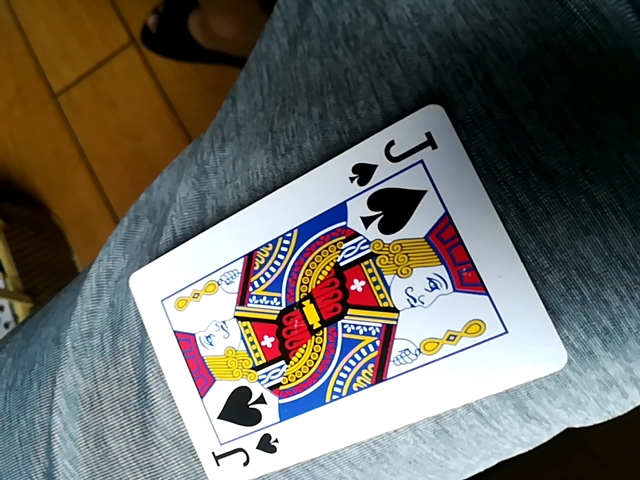ht j: (135, 101, 566, 478)
